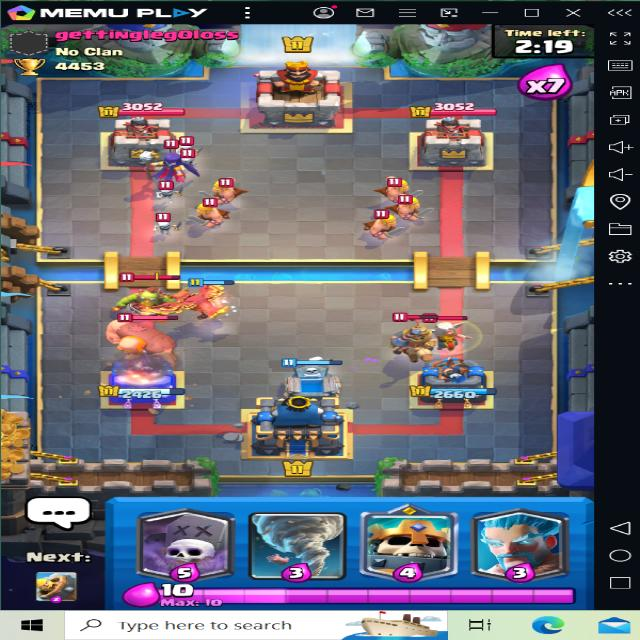barbarian: (356, 208, 404, 238), (367, 173, 417, 201), (384, 192, 432, 221), (186, 198, 230, 228), (206, 174, 246, 203)
battle-healer: (419, 313, 485, 353)
giant: (104, 304, 193, 358)
goblin-demolisher: (121, 283, 185, 312)
prince: (394, 313, 459, 363)
skeleton: (172, 149, 204, 172), (172, 135, 204, 155), (154, 182, 177, 200), (156, 217, 173, 230)
witch: (138, 144, 194, 184)
